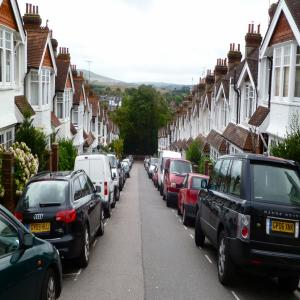Vehicle-registration-plate: (30, 223, 51, 236), (273, 221, 294, 233)
